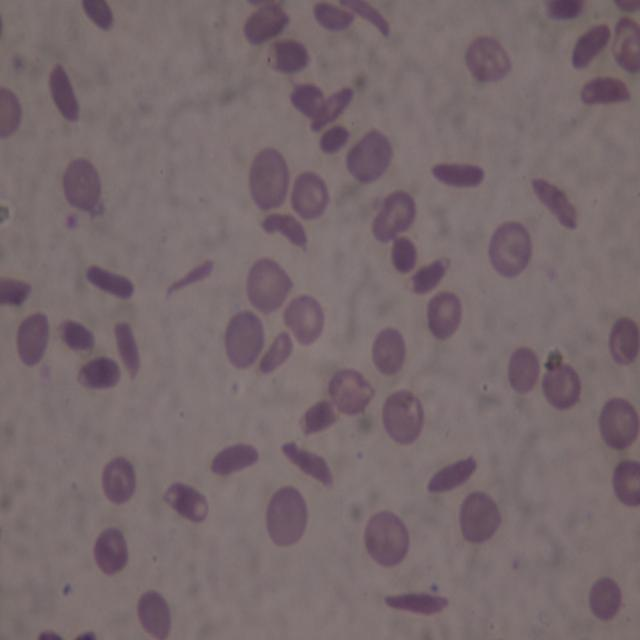Crystal: (570, 24, 612, 72), (48, 62, 80, 123), (210, 440, 259, 478), (431, 160, 487, 192), (113, 319, 142, 380), (579, 73, 633, 105), (88, 263, 134, 300), (1, 276, 34, 306), (82, 0, 114, 30)
Normal: (427, 289, 462, 339)
Others: (344, 125, 396, 187), (244, 255, 296, 315), (364, 509, 411, 570), (488, 220, 534, 282), (247, 148, 290, 214), (263, 486, 309, 546), (60, 153, 104, 215), (381, 388, 425, 447), (222, 309, 265, 369), (372, 188, 417, 245), (328, 368, 378, 418), (281, 292, 326, 347), (464, 33, 514, 82), (459, 489, 503, 543), (162, 479, 210, 525), (13, 310, 50, 367), (288, 170, 330, 219), (598, 396, 637, 448), (541, 362, 583, 410), (242, 6, 292, 46), (258, 326, 297, 376), (100, 456, 138, 506), (135, 588, 172, 638), (404, 255, 449, 295), (92, 527, 130, 574), (57, 318, 100, 358), (506, 345, 540, 395), (371, 326, 406, 374), (297, 398, 339, 437), (268, 38, 311, 76), (589, 576, 623, 622), (608, 316, 640, 364), (287, 82, 326, 121), (78, 354, 121, 388), (612, 18, 639, 70), (612, 459, 639, 508), (2, 83, 22, 143), (318, 124, 352, 155), (545, 0, 584, 23), (391, 235, 415, 271), (618, 36, 639, 71), (544, 346, 564, 370), (613, 0, 640, 16), (37, 630, 64, 640), (74, 629, 97, 640)
Sickle: (277, 438, 336, 488), (531, 174, 580, 229), (308, 84, 357, 133), (163, 257, 216, 302), (424, 453, 478, 496), (338, 1, 391, 38), (260, 212, 306, 250), (382, 589, 448, 615), (310, 1, 357, 32)
